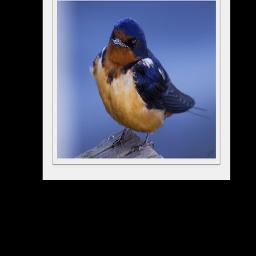Swallow: (89, 16, 211, 156)
